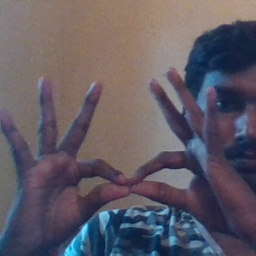B: (61, 124, 206, 233)
